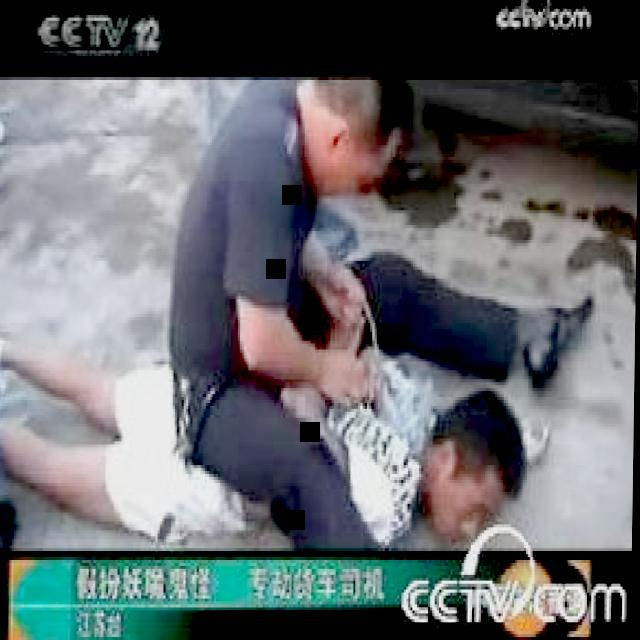Fall-Detected: (0, 290, 573, 546)
